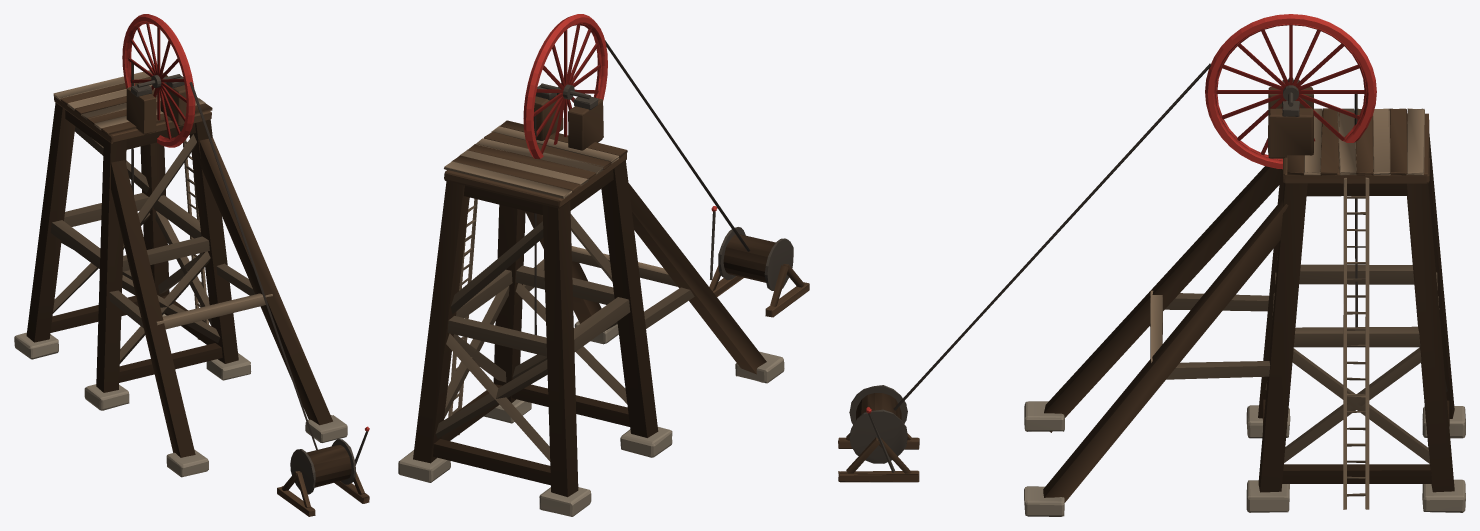
Rendered from headframe.glb.
The picture shows the model from 3 angles, left to right: view 1: azimuth 30°, elevation 25°; view 2: azimuth 150°, elevation 25°; view 3: azimuth 270°, elevation 25°; orthographic projection. The views are drawn at different scales.
Parts seen in each view (by area): view 1: Headframe, Sheave; view 2: Headframe, Sheave; view 3: Headframe, Sheave.
Part boxes in pixels (x1,y1,x2,y2): Headframe: [14, 61, 369, 516]; Sheave: [122, 14, 195, 147]; Headframe: [398, 40, 809, 516]; Sheave: [523, 14, 607, 158]; Headframe: [838, 63, 1465, 516]; Sheave: [1205, 14, 1376, 169].
Size of the model in its own units: 4.82 by 10.04 by 12.49.
